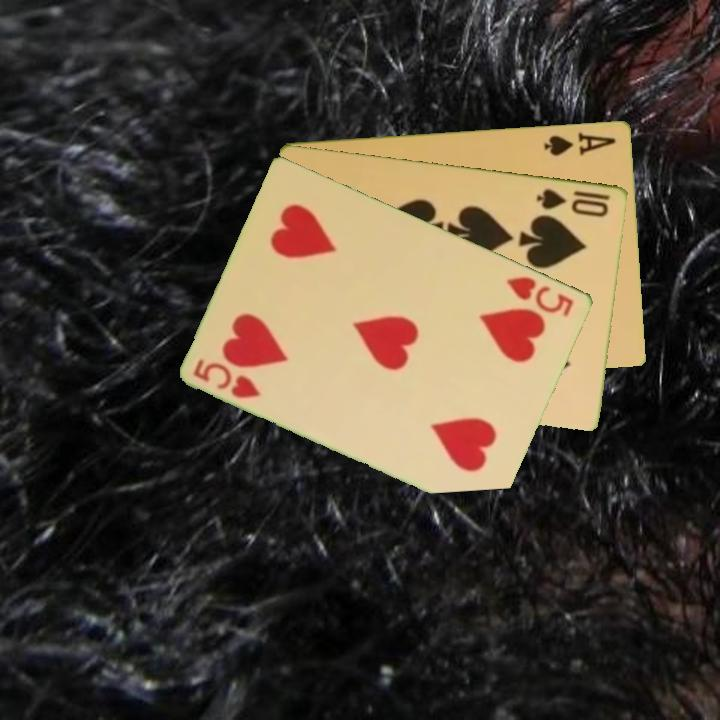10s: (533, 184, 614, 220)
5h: (503, 272, 577, 320), (190, 355, 264, 402)
As: (540, 128, 619, 158)
